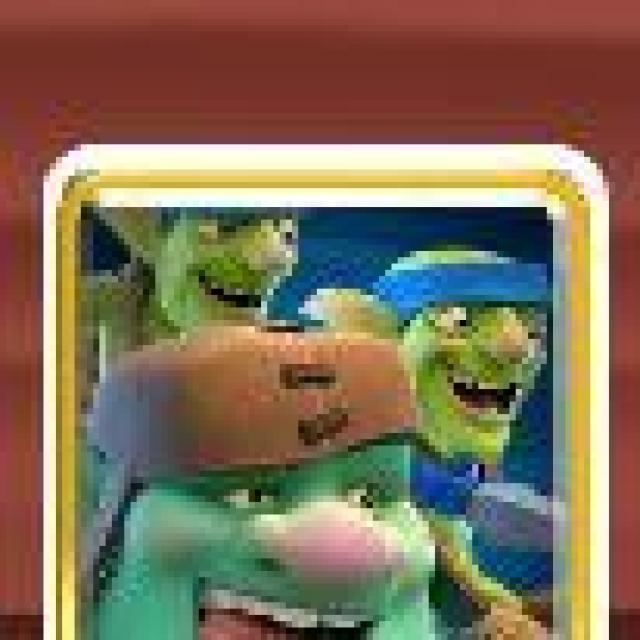Goblin_Giant: (44, 143, 611, 640)
